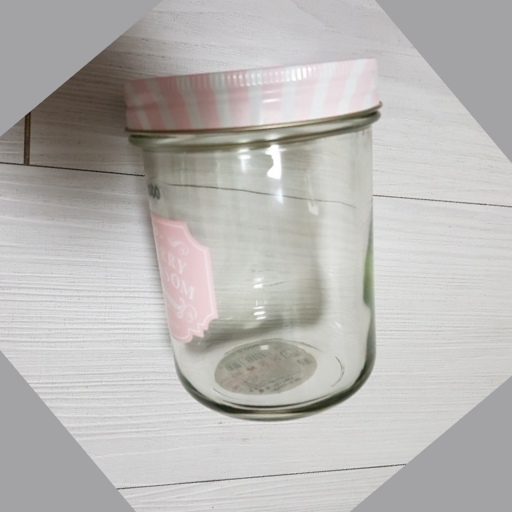Glass_5: (126, 53, 385, 421)
